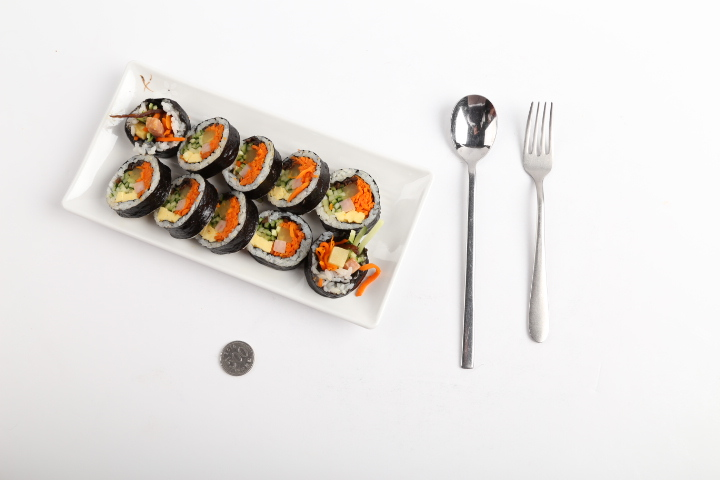dish: (61, 59, 432, 329)
ref_coin: (220, 340, 255, 376)
ref_fork: (522, 101, 553, 183)
ref_spoon: (450, 94, 498, 170)
김밥: (107, 98, 381, 299)
